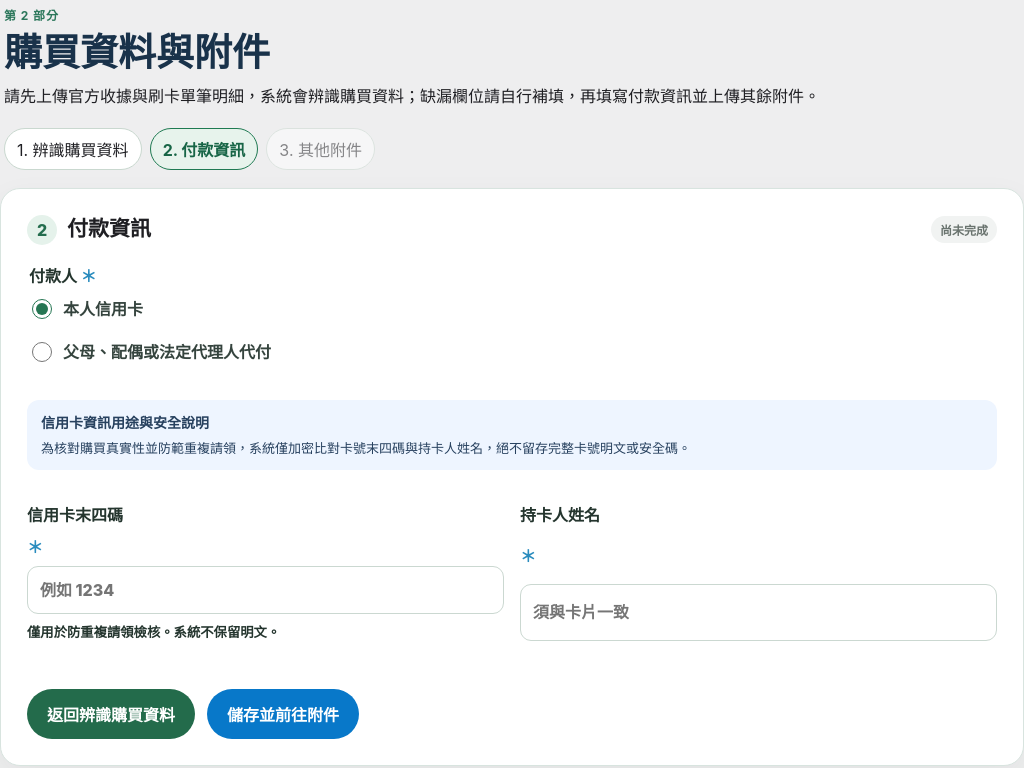
Scenario: DocumentReview › requires a full purchase-details save before the remaining attachments step
Expected: the heading "付款資訊" is shown, [67, 216, 151, 243]
Type "4242" into the field with placeholder "例如 1234" at [266, 590], box [27, 566, 504, 614]
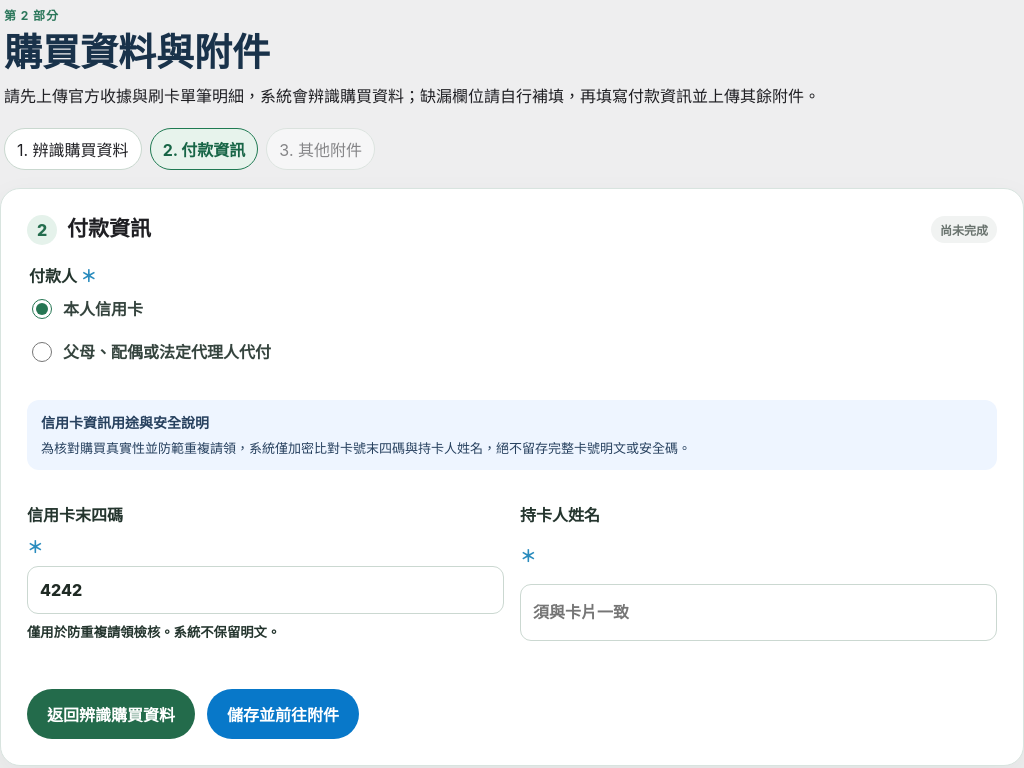
Type "測試持卡人" into the field with placeholder "須與卡片一致" at [758, 612], box [520, 584, 997, 641]
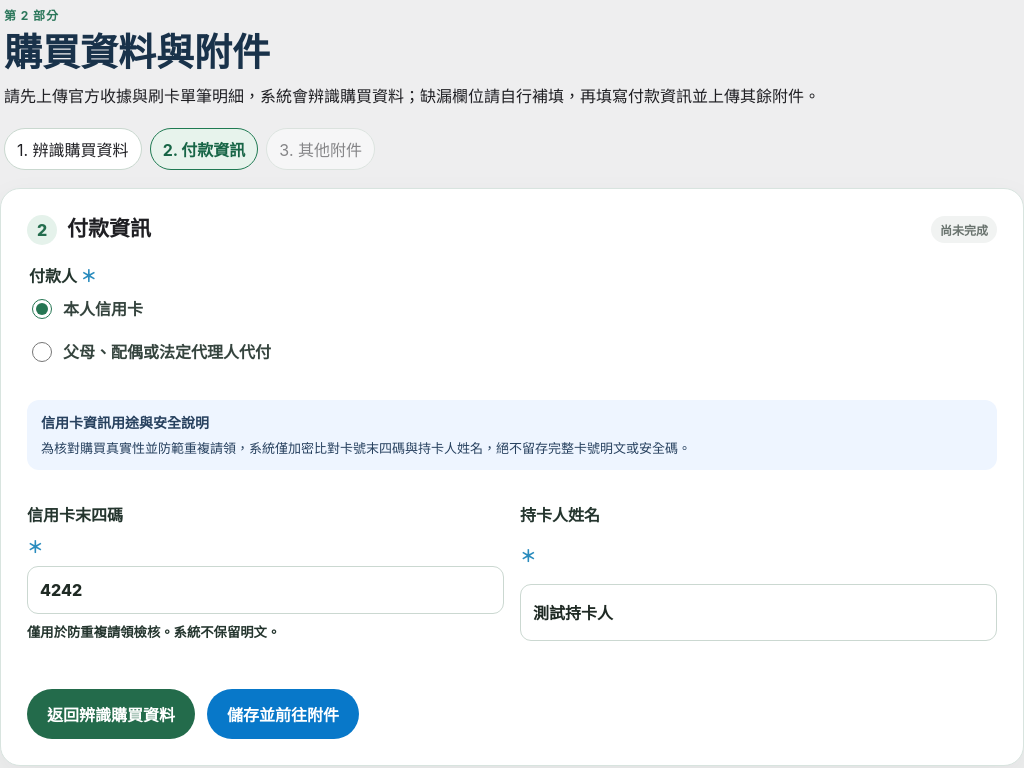
Click the button "儲存並前往附件" at [283, 714], box [207, 689, 359, 739]
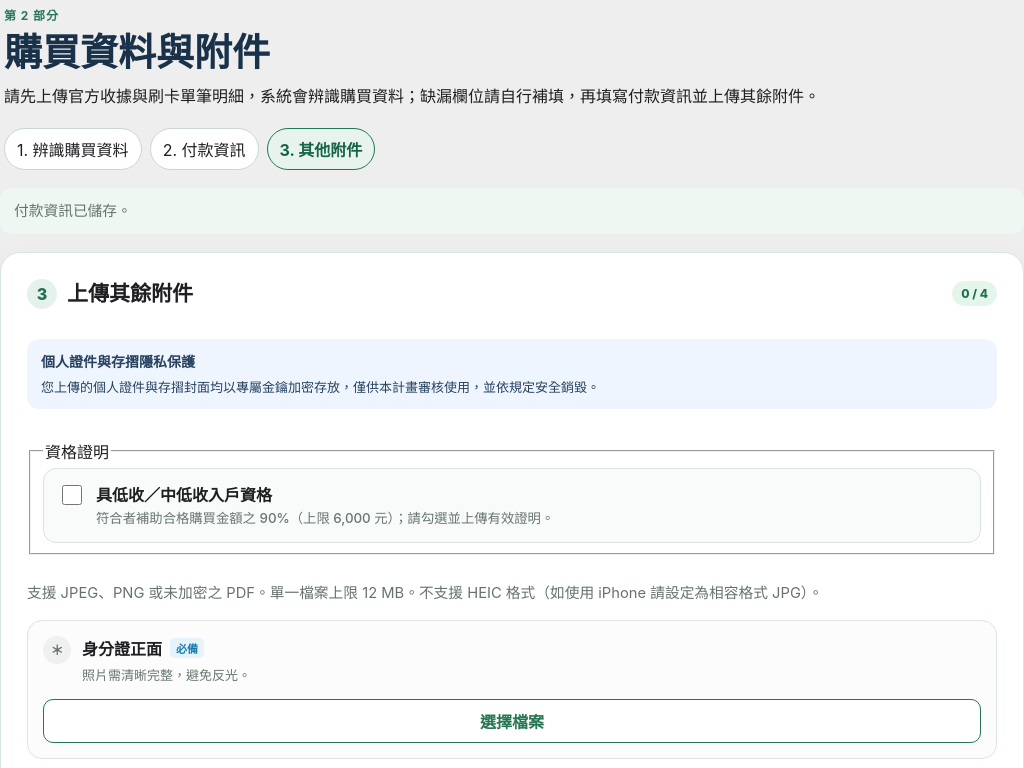
Expected: the heading "上傳其餘附件" is shown, [67, 280, 193, 307]
Expected: the heading "身分證正面 必備" is shown, [82, 638, 204, 659]
